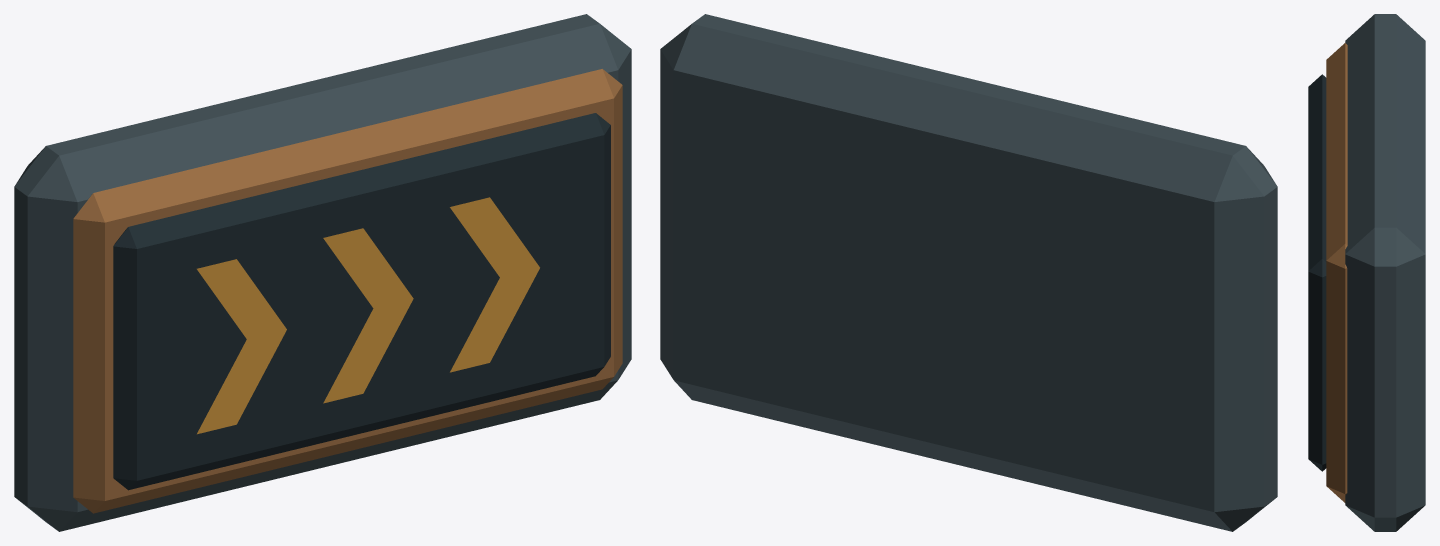
The model's file is e7b-hi-vis-chevron.glb.
The picture shows the model from 3 angles, left to right: view 1: azimuth 30°, elevation 25°; view 2: azimuth 150°, elevation 25°; view 3: azimuth 270°, elevation 25°; orthographic projection. The views are drawn at different scales.
Visible parts, largest first — view 1: Night shift chevrons | cosmetic; view 2: Night shift chevrons | cosmetic; view 3: Night shift chevrons | cosmetic.
Boxes of the visible parts, x1,y1,x2,y2 form: Night shift chevrons | cosmetic: (14, 14, 631, 531); Night shift chevrons | cosmetic: (660, 14, 1277, 531); Night shift chevrons | cosmetic: (1308, 14, 1425, 531).
Size of the model in its own units: 0.42 by 0.25 by 0.089.
